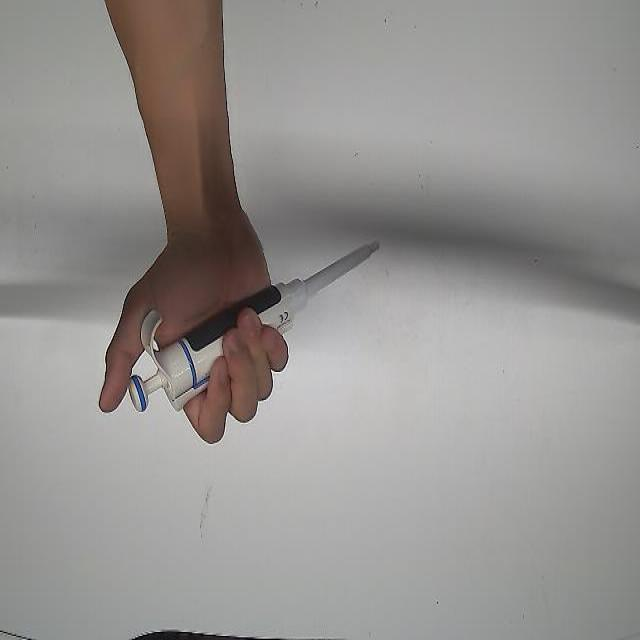Single Channel Pipettor: (125, 239, 384, 415)
